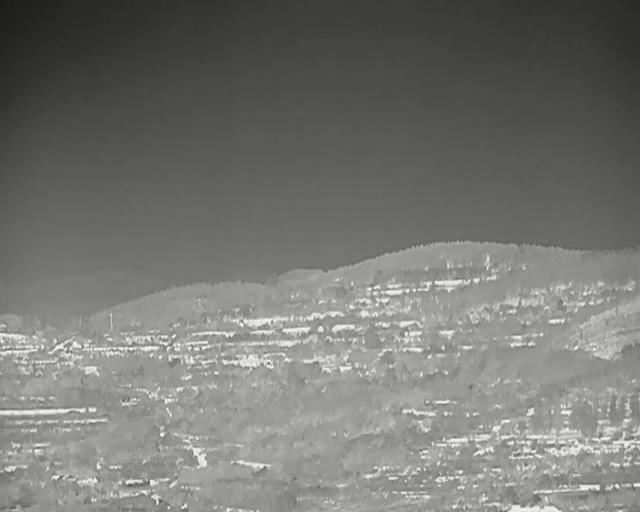uav: (180, 374, 193, 381)
